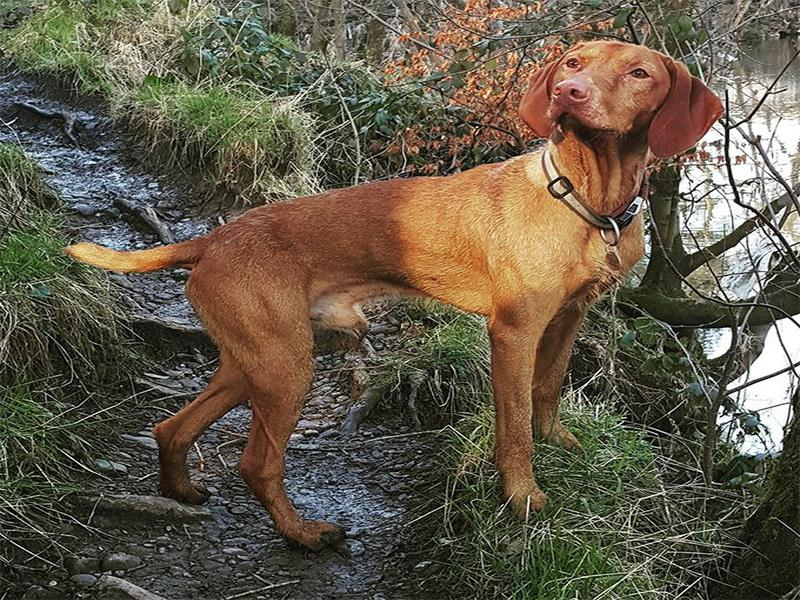dog_stand: (58, 40, 732, 556)
